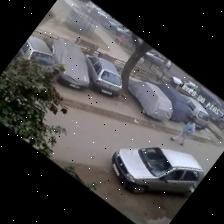person: (170, 116, 195, 145)
